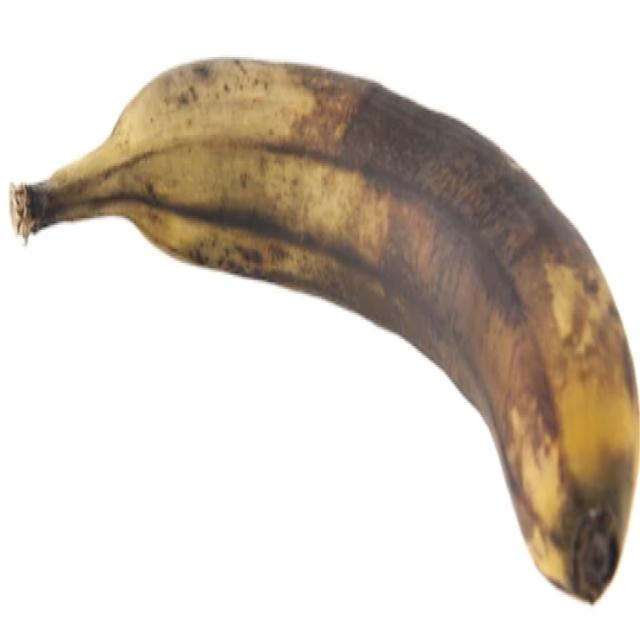rotten-banana: (9, 52, 638, 604)
